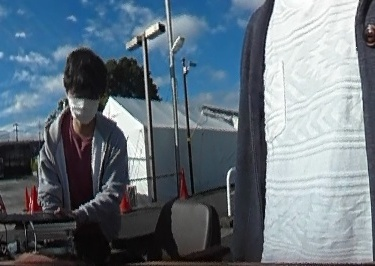person: (44, 45, 129, 266)
